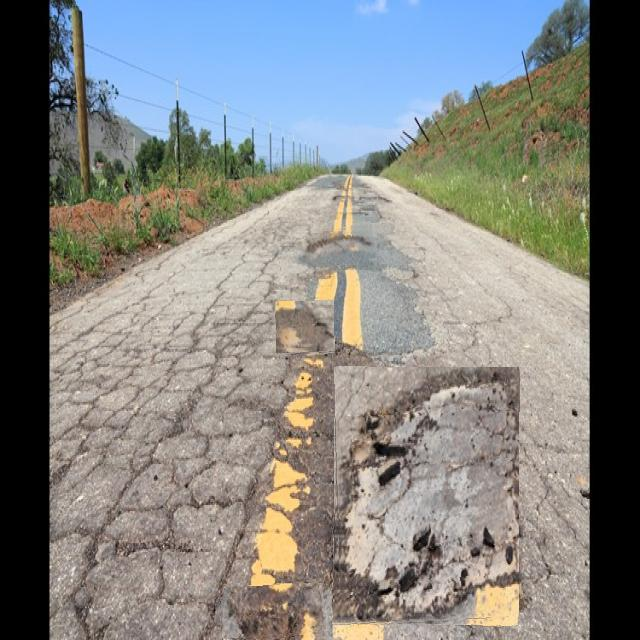Pothole: (333, 367, 519, 626), (221, 583, 324, 640), (276, 301, 334, 354), (303, 225, 377, 265)
